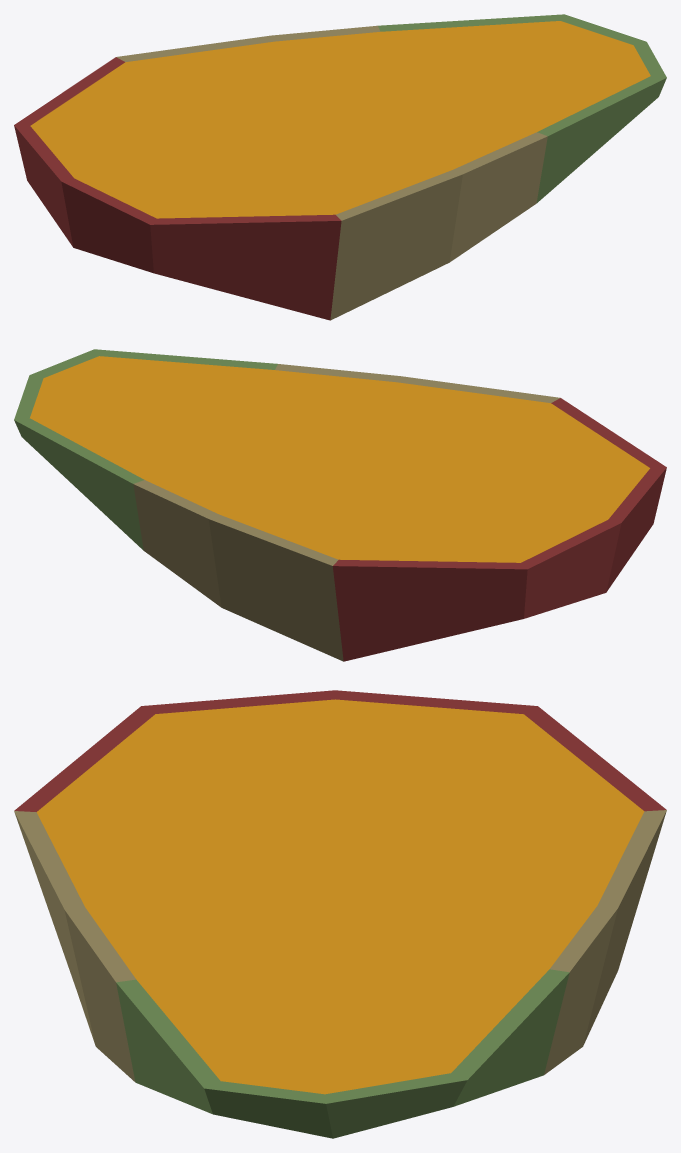
Rendered from mangoCut.fbx.
The picture shows the model from 3 angles, top to bottom: view 1: azimuth 30°, elevation 25°; view 2: azimuth 150°, elevation 25°; view 3: azimuth 270°, elevation 25°; orthographic projection. The views are drawn at different scales.
Visible parts, largest first — view 1: mangoCut; view 2: mangoCut; view 3: mangoCut.
Part boxes in pixels (x1,y1,x2,y2): mangoCut: (14,14,666,320); mangoCut: (14,349,666,661); mangoCut: (14,690,666,1138).
Bounding box in the file's own units: 12.74 × 3.07 × 8.5.
Materials: 1 (1 with a texture image).
